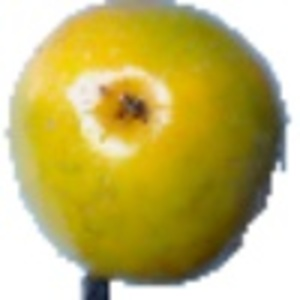maracujá: (5, 1, 293, 300)
